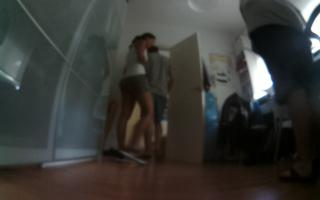person: (234, 1, 320, 189), (110, 29, 160, 168), (138, 44, 177, 167)
